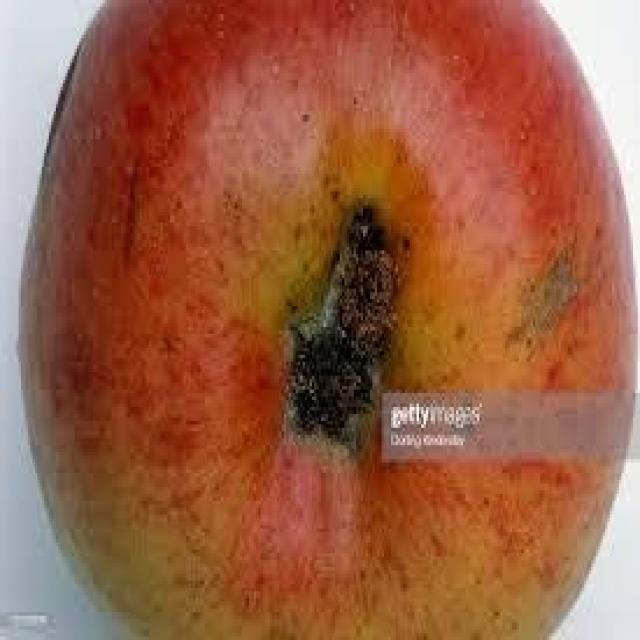maca: (16, 0, 638, 637)
